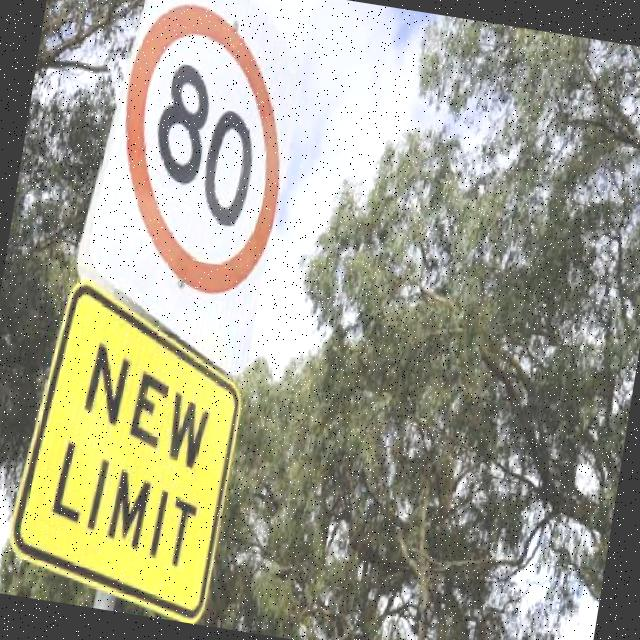Ograniczenie predkosci do 80: (108, 14, 294, 290)
